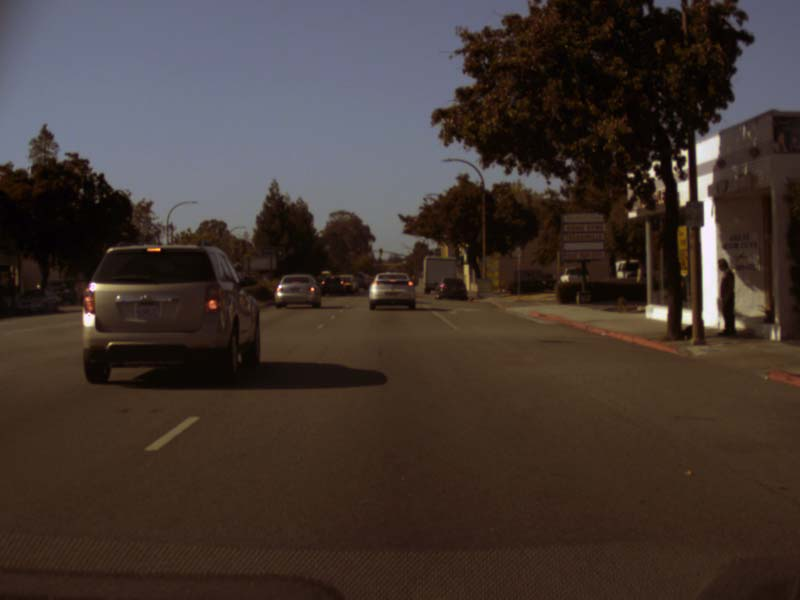Yellow: (356, 244, 361, 251)
